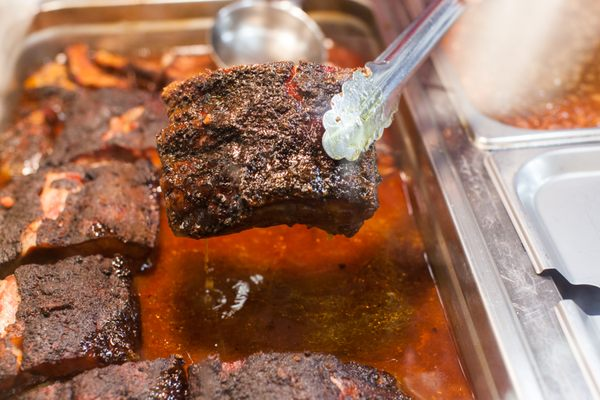burger: (319, 0, 466, 159)
